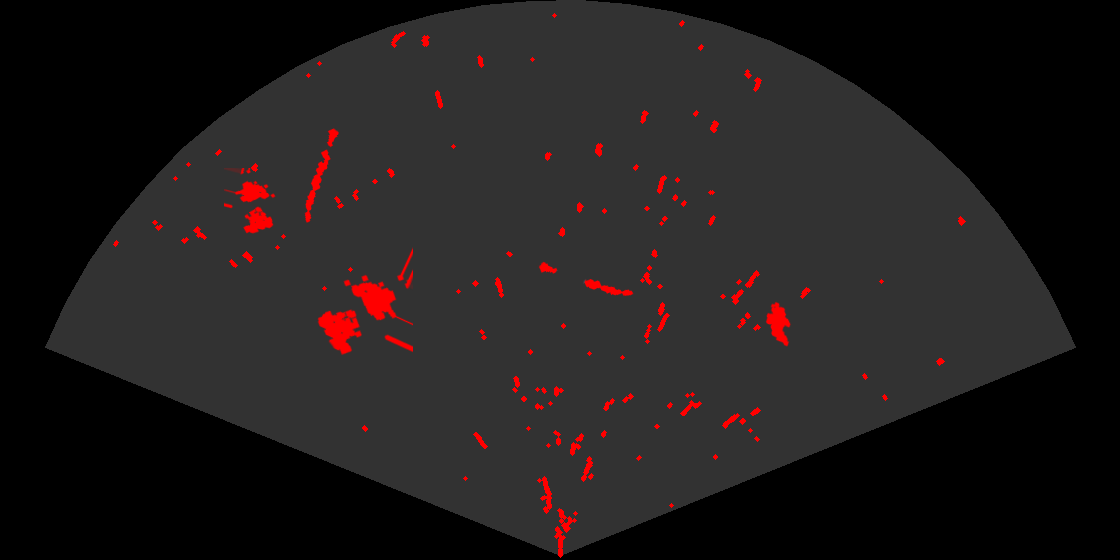AUV: (764, 300, 793, 348)
cage: (316, 247, 413, 357), (224, 168, 277, 235)
chain: (536, 260, 635, 298), (303, 127, 340, 224)
